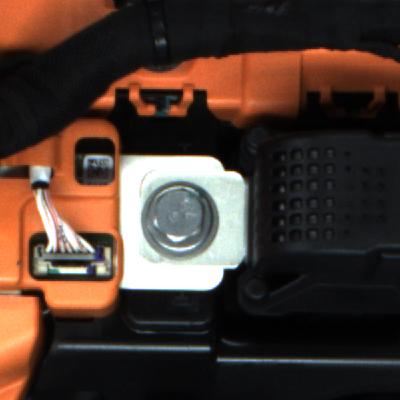nut_b: (137, 175, 252, 265)
